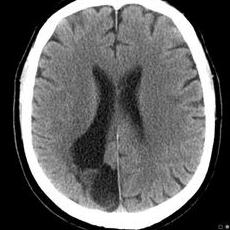Normal_Brain: (1, 1, 230, 230)
